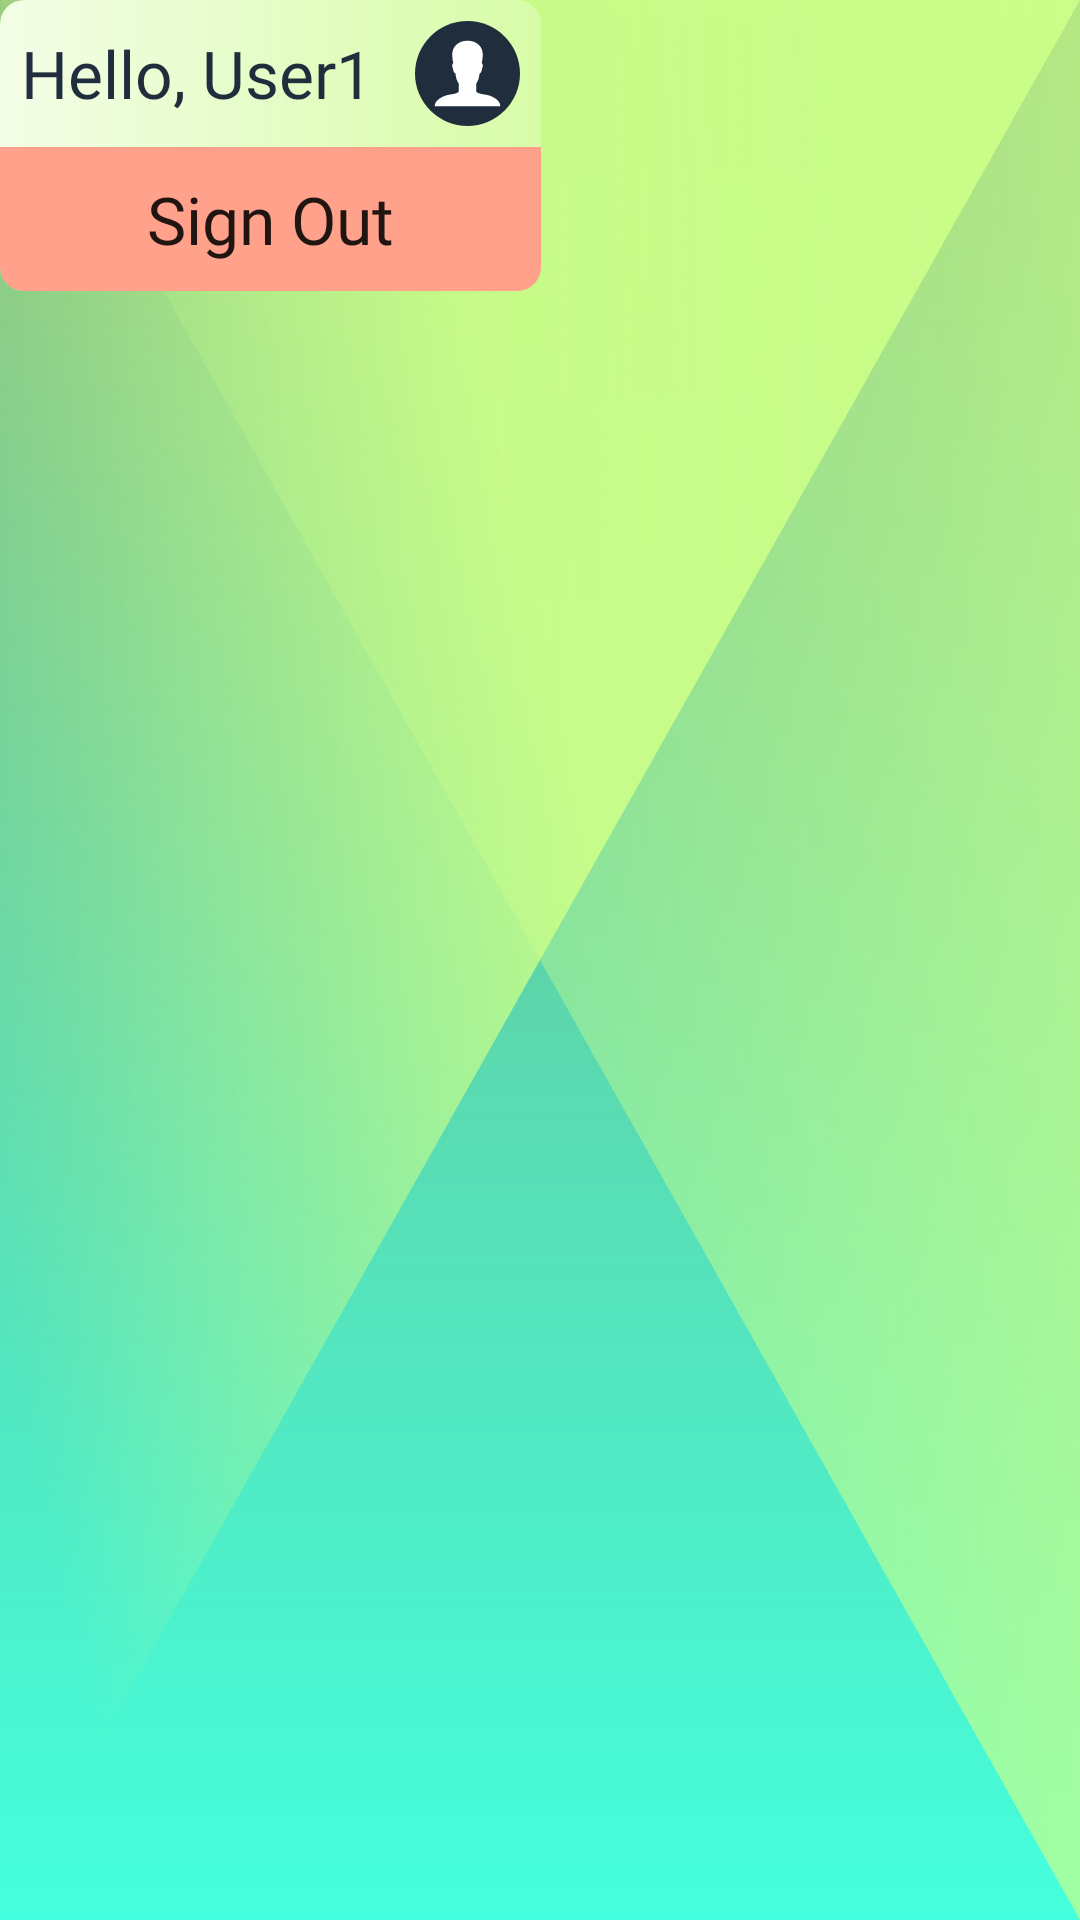

Icons on this 1080 x 1920 Android screen, each with its box as [x1, y1, x2, y2]:
Profile picture: [415, 21, 520, 126]
